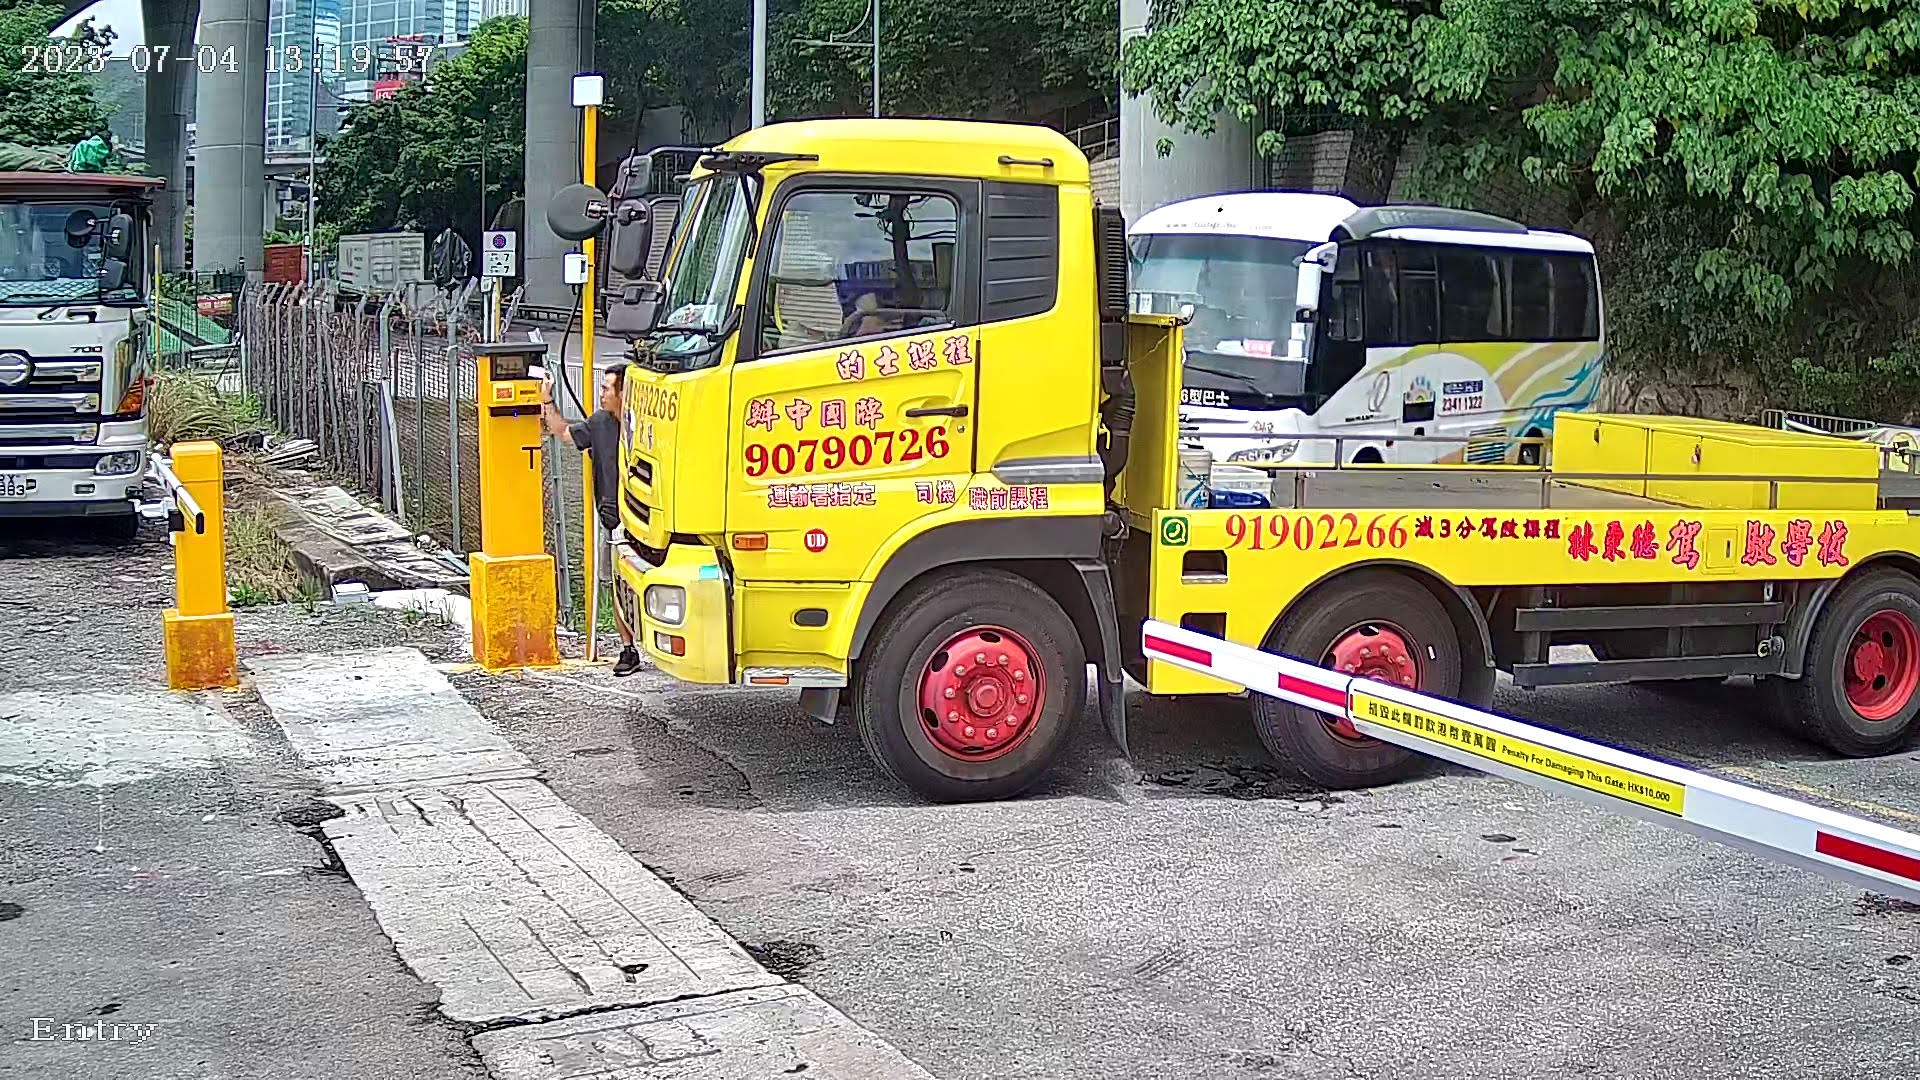truck_large: (553, 102, 1920, 810)
